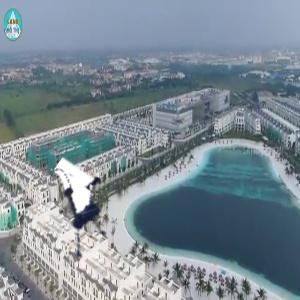drone: (32, 170, 132, 270)
